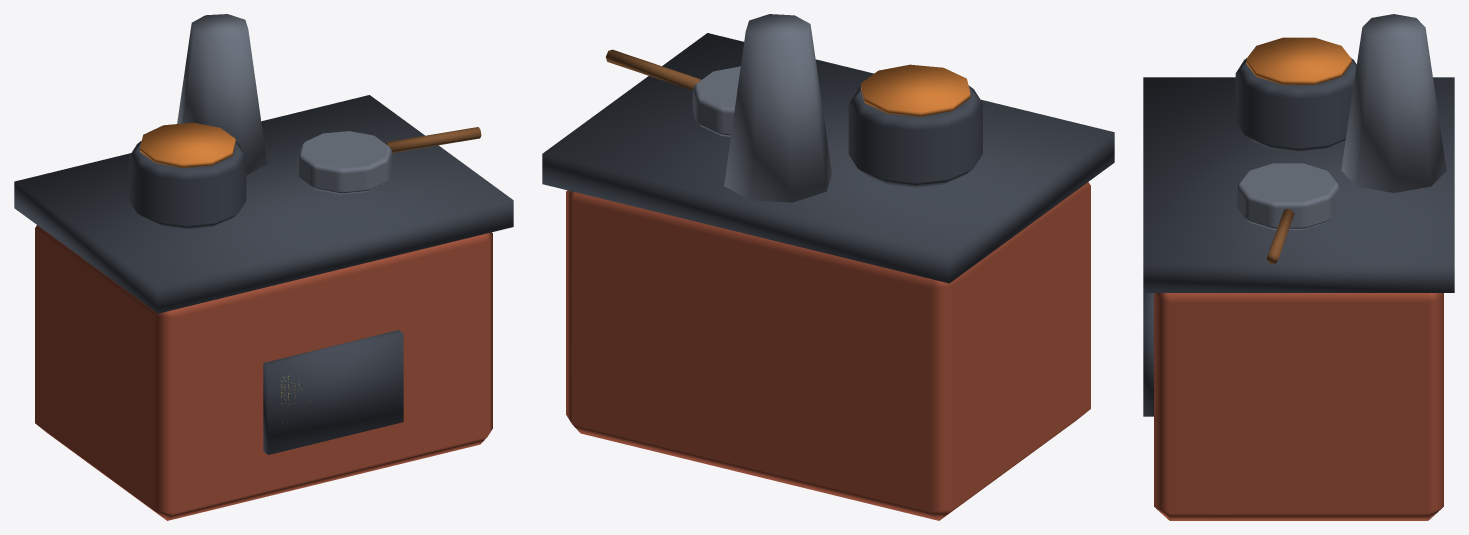
File: cooking_range.glb
3 renders of one model, left to right at view 1: azimuth 30°, elevation 25°; view 2: azimuth 150°, elevation 25°; view 3: azimuth 270°, elevation 25°, orthographic. The views are drawn at different scales.
Parts seen in each view (by area): view 1: cooking_range; view 2: cooking_range; view 3: cooking_range.
Part boxes in pixels (x1,y1,x2,y2): cooking_range: (14, 14, 513, 520); cooking_range: (542, 14, 1114, 520); cooking_range: (1143, 14, 1454, 520).
Size of the model in its own units: 0.9018 by 0.86 by 0.59.
